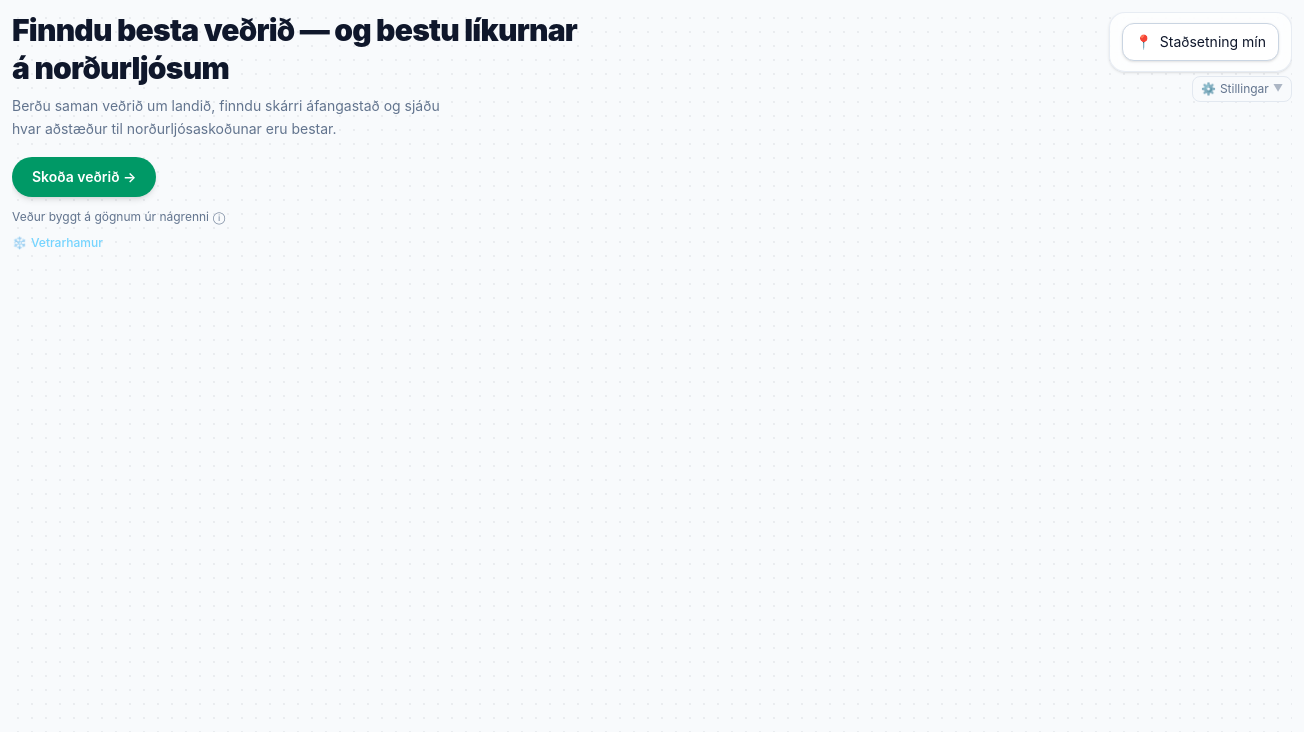
Test case: Toolbar logout row › uses the Icelandic label when lang is is
This screenshot has width=1304, height=732.
Click the button "⚙ Stillingar ▼".
click(1242, 89)  # box [1192,76,1292,102]
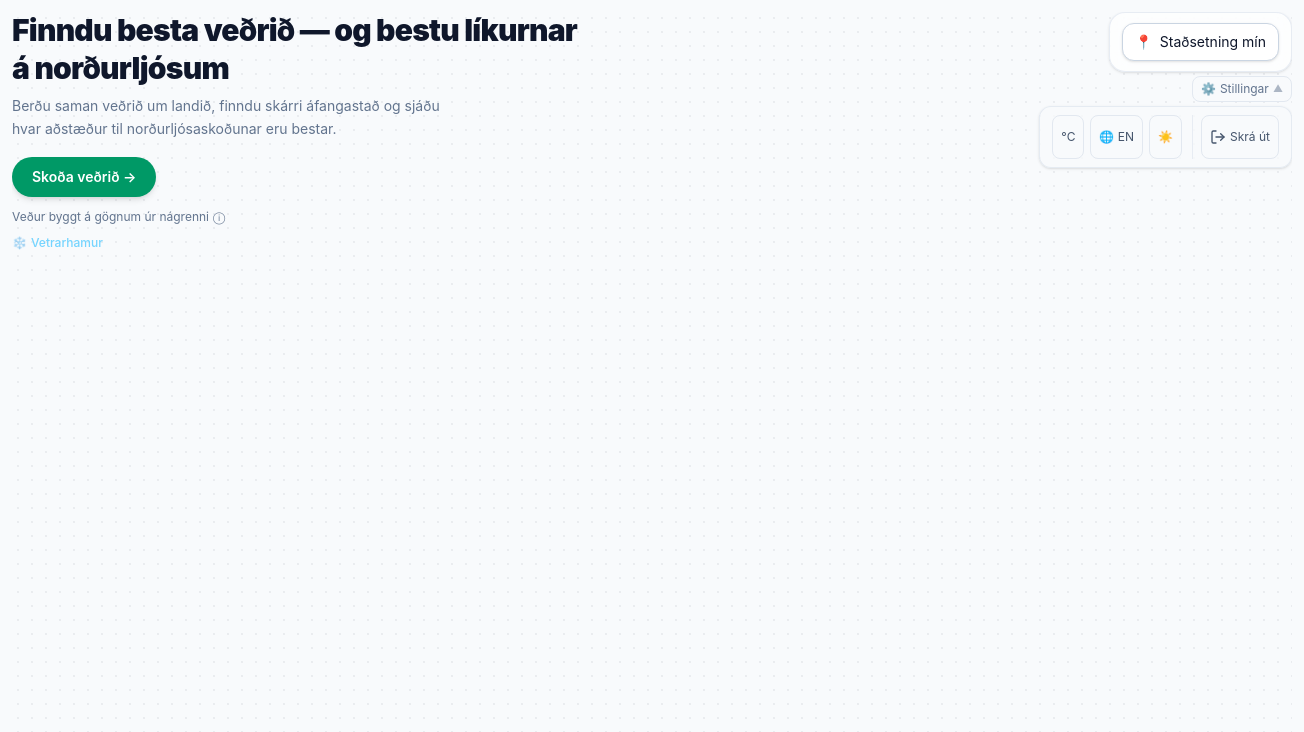
Expected: the button "Skrá út" is shown, [1201,115,1279,159]
Expected: the text "Skrá út" is shown, [1230,129,1270,145]
